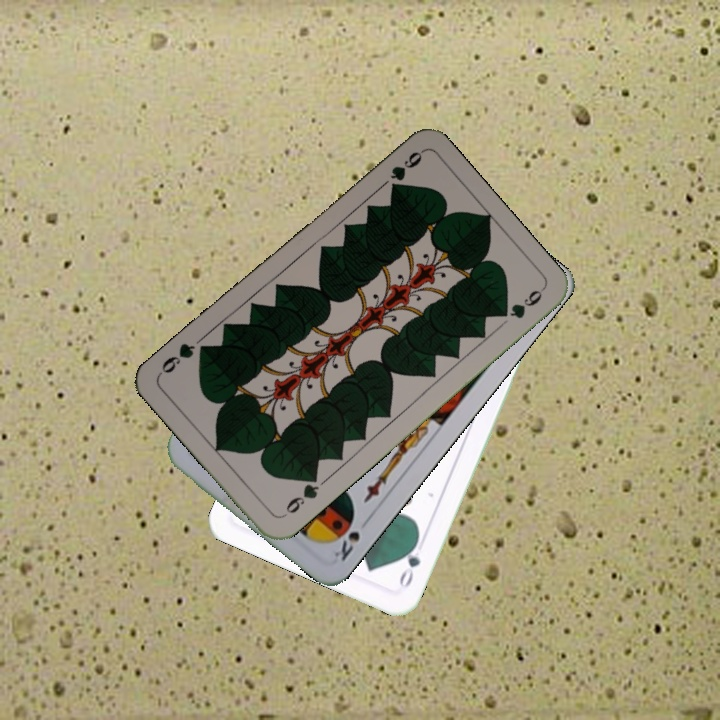G9: (278, 470, 322, 520), (386, 147, 425, 192)
GO: (395, 534, 423, 590)
SK: (327, 527, 363, 564)
